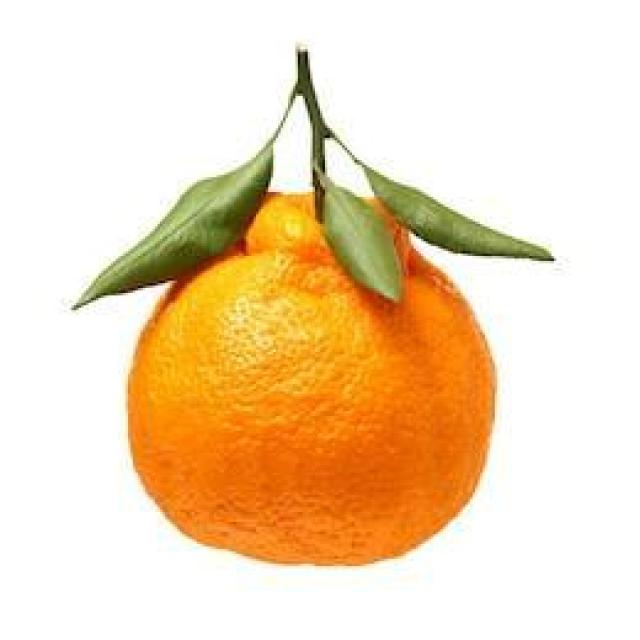orange: (123, 191, 498, 568)
